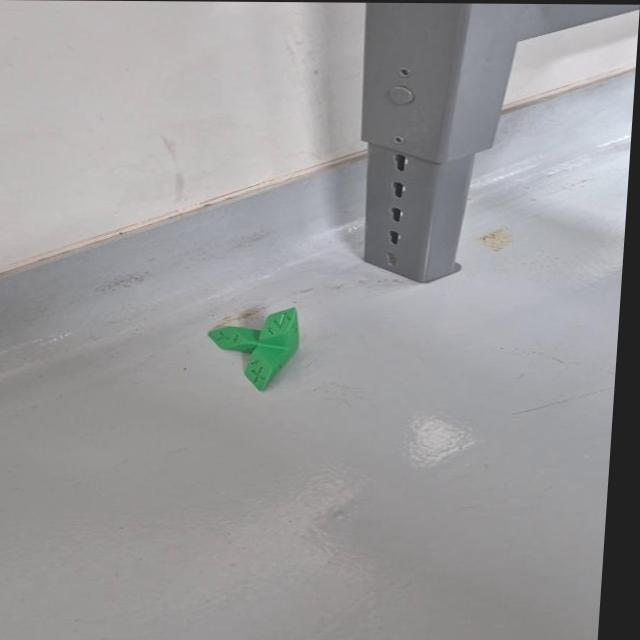eje: (193, 309, 314, 398)
